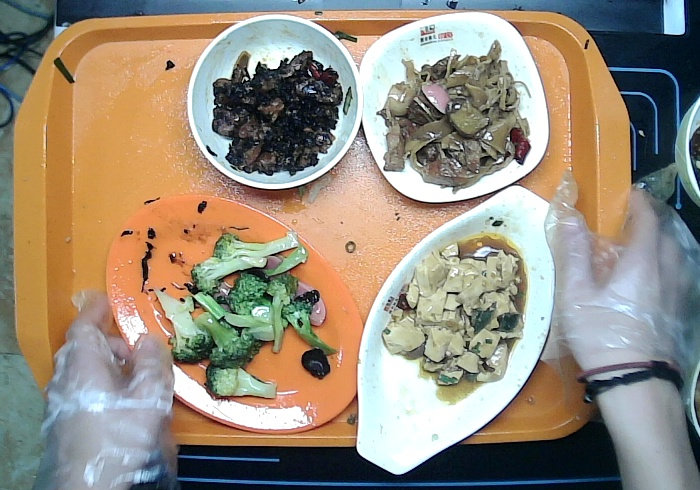NLDX-Bai_Se_Xiao_Fang_Die: (354, 10, 552, 206)
NLDX-Fan_Wan: (185, 12, 366, 193)
NLDX-Ju_Se_Pan: (102, 191, 367, 437)
NLDX-Yu_Pan: (353, 181, 559, 476)
